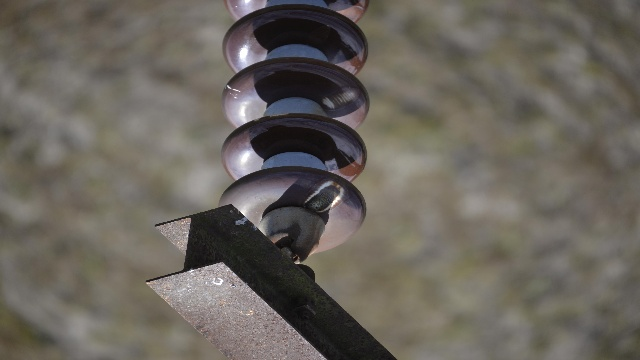insulator_unspecified: (219, 0, 371, 252)
pollution_flashover_local: (306, 181, 346, 216), (322, 89, 363, 112)
